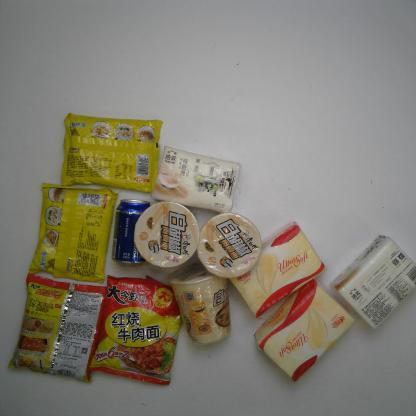Alcohol: (111, 198, 151, 268)
Instant Noodles: (6, 272, 107, 384), (86, 274, 183, 388), (28, 181, 118, 284), (59, 112, 164, 194), (167, 263, 233, 346), (133, 201, 201, 270), (196, 212, 262, 280)
Tissue: (253, 278, 356, 384), (229, 220, 328, 320), (330, 233, 415, 332), (152, 145, 241, 214)
